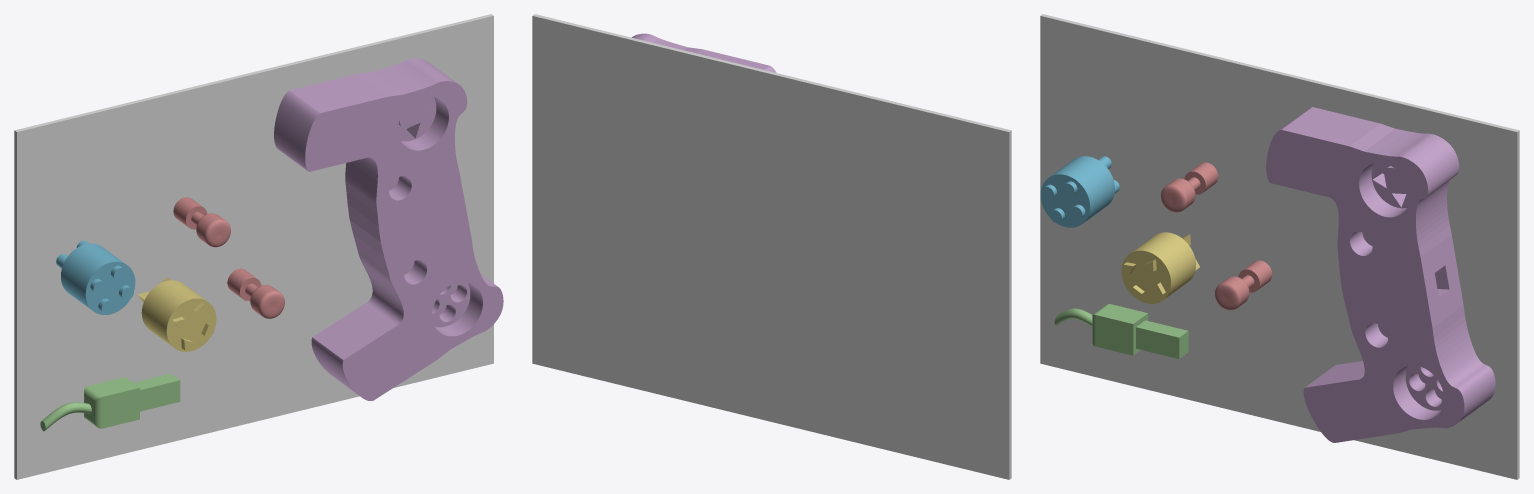
File: pickup_layout.glb
The picture shows the model from 3 angles, left to right: view 1: azimuth 30°, elevation 25°; view 2: azimuth 150°, elevation 25°; view 3: azimuth 330°, elevation 25°; orthographic projection.
Parts seen in each view (by area): view 1: world, 3.obj, 4.obj, 2.obj, 1.obj, 5.obj, 0.obj; view 2: world, 3.obj; view 3: world, 3.obj, 4.obj, 2.obj, 1.obj, 0.obj, 5.obj.
Part boxes in pixels (x1,y1,x2,y2): world: (14,14,493,479); 3.obj: (274,58,503,400); 4.obj: (40,373,180,431); 2.obj: (56,240,135,314); 1.obj: (138,277,216,351); 5.obj: (173,197,230,247); 0.obj: (227,268,284,318); world: (532,14,1011,479); 3.obj: (631,33,776,72); world: (1040,14,1519,479); 3.obj: (1266,107,1495,442); 4.obj: (1054,304,1188,358); 2.obj: (1040,156,1119,227); 1.obj: (1121,232,1199,303); 0.obj: (1215,260,1272,310); 5.obj: (1161,162,1218,212).
Size of the model in its own units: 22.09 by 15.39 by 3.2.
